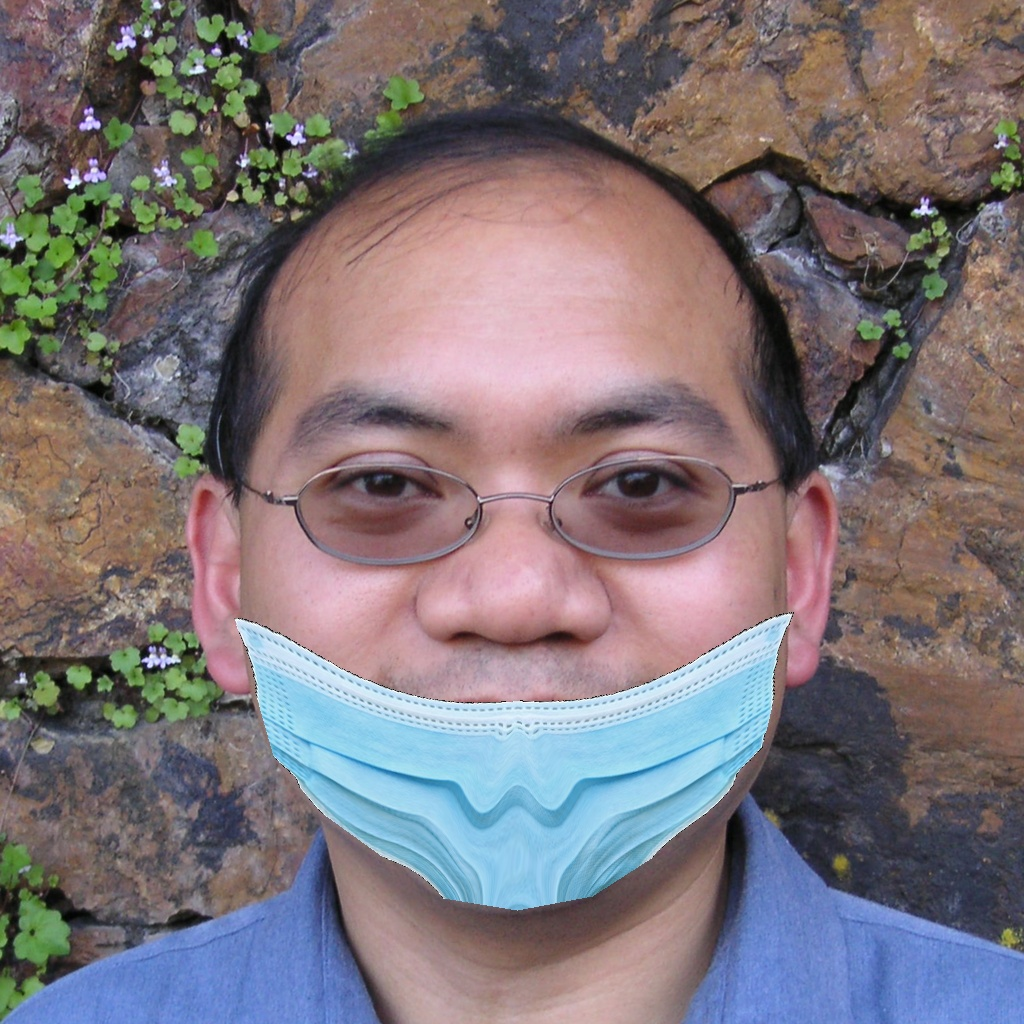mascarilla_mal_puesta: (212, 330, 832, 898)
